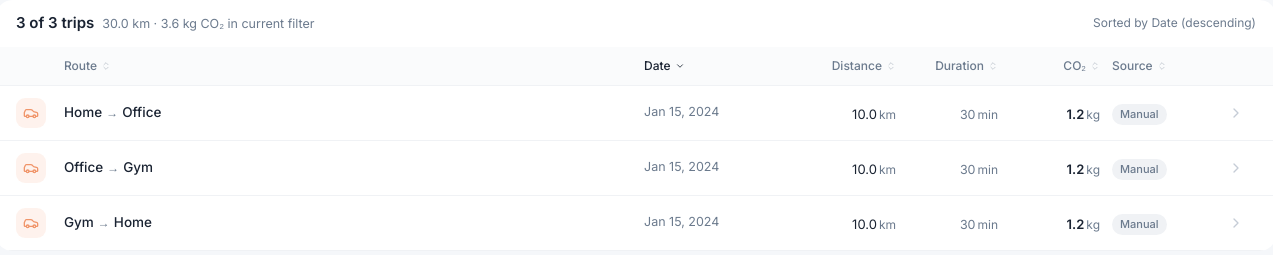
Scenario: TripsTable › clicking different column header changes active sort key to asc
Click Distance header (different from default Date)
Click the button "Distance" at (864, 66), box [832,56,896,74]
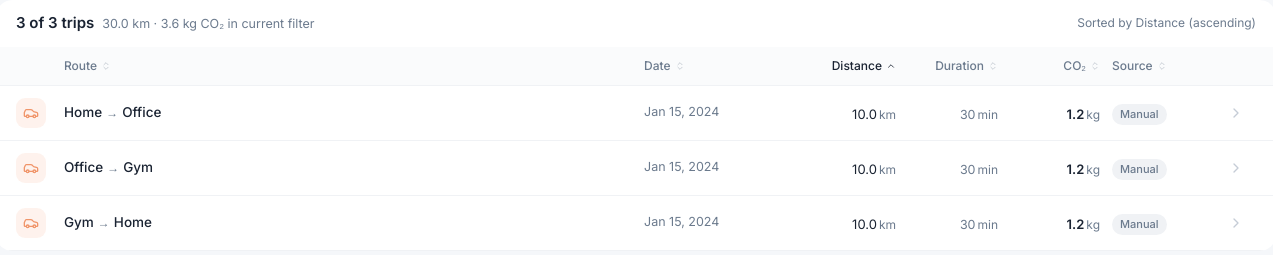
Now the text "Sorted by Distance (ascending)" is shown, box [1077,14,1256,32]
